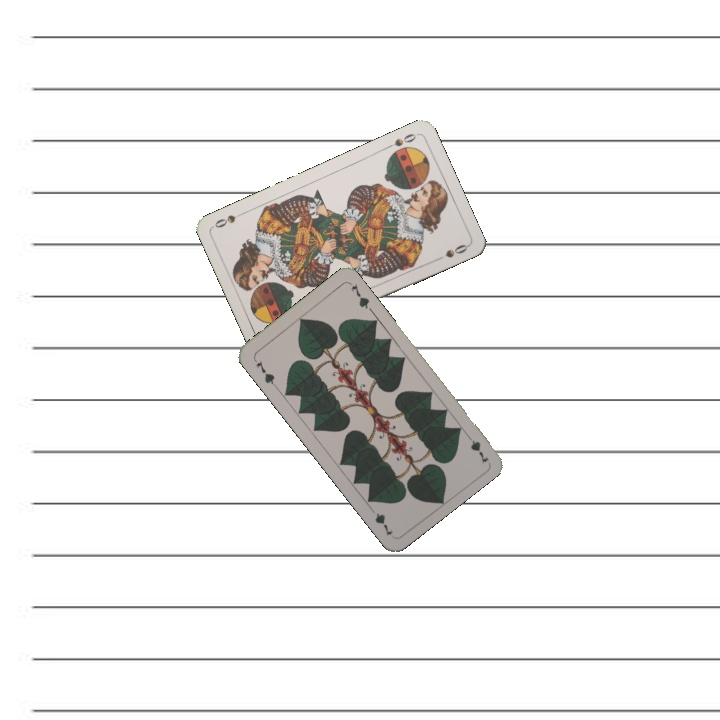G7: (461, 428, 491, 466), (250, 354, 279, 389)
SO: (382, 129, 420, 152)
